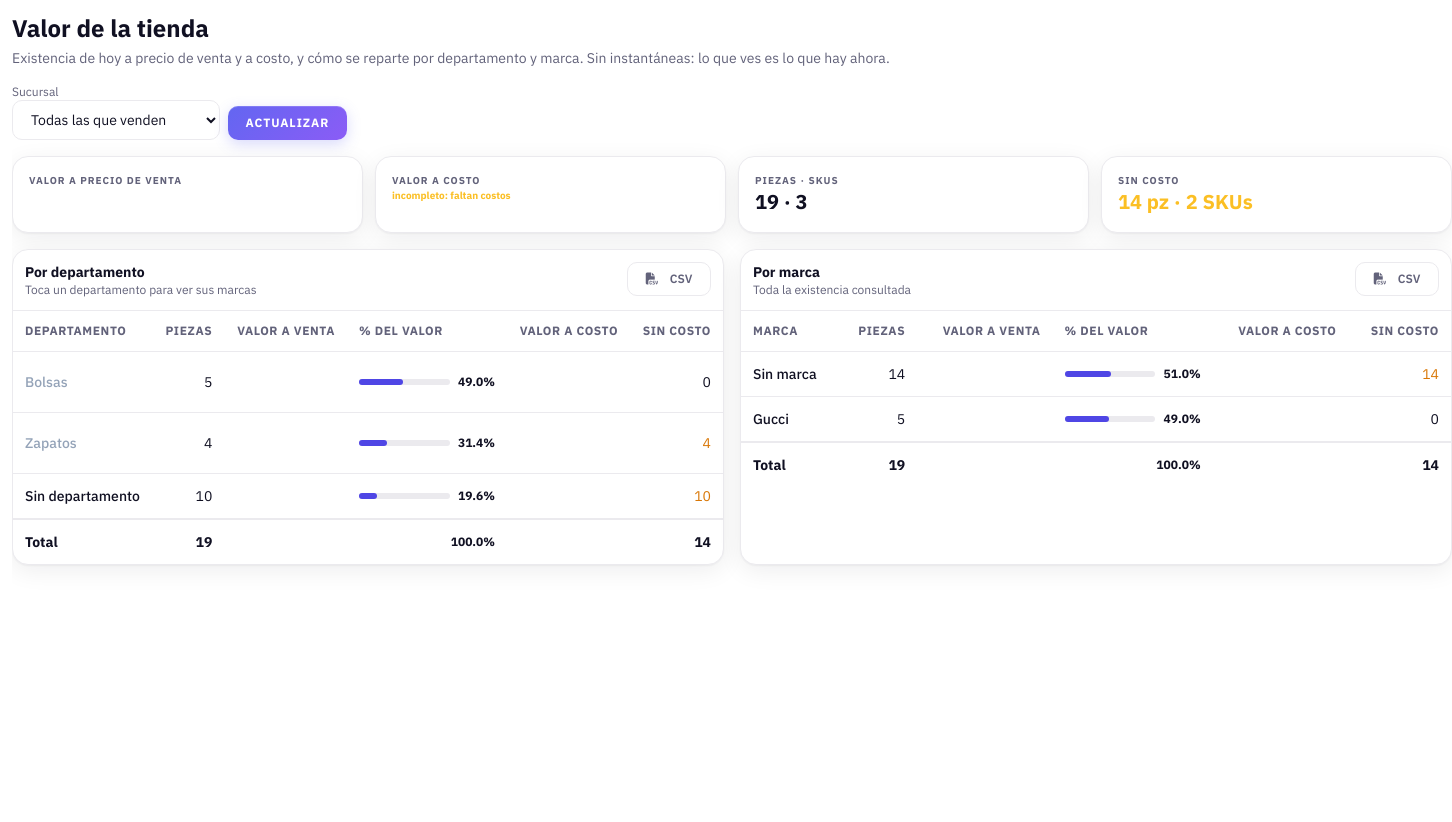
Test: HQValorInventario — distribución del valor › elegir un departamento acota las marcas a ese departamento y se puede quitar
Step 1. Click the button "Bolsas" → {"x": 46, "y": 382}, box [25, 364, 68, 400]
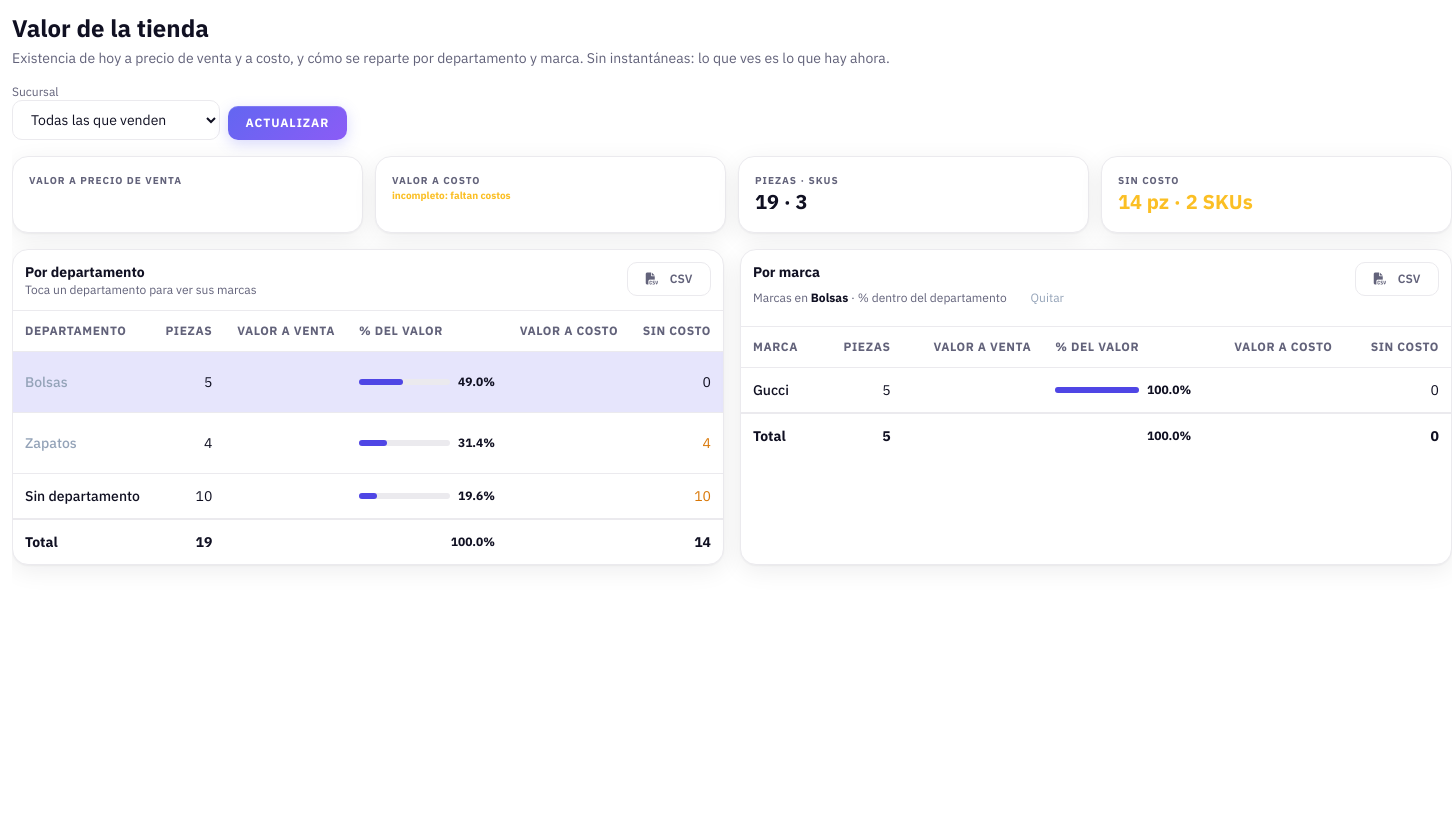
Expected: the text "Marcas en Bolsas · % dentro del departamento Quitar" is shown, [753, 282, 1080, 314]
Expected: the text "Bolsas" is shown, [811, 290, 848, 305]
Expected: the text "Sin marca" is gone
Step 2. Click the button "Quitar" → {"x": 1047, "y": 298}, box [1015, 282, 1080, 314]
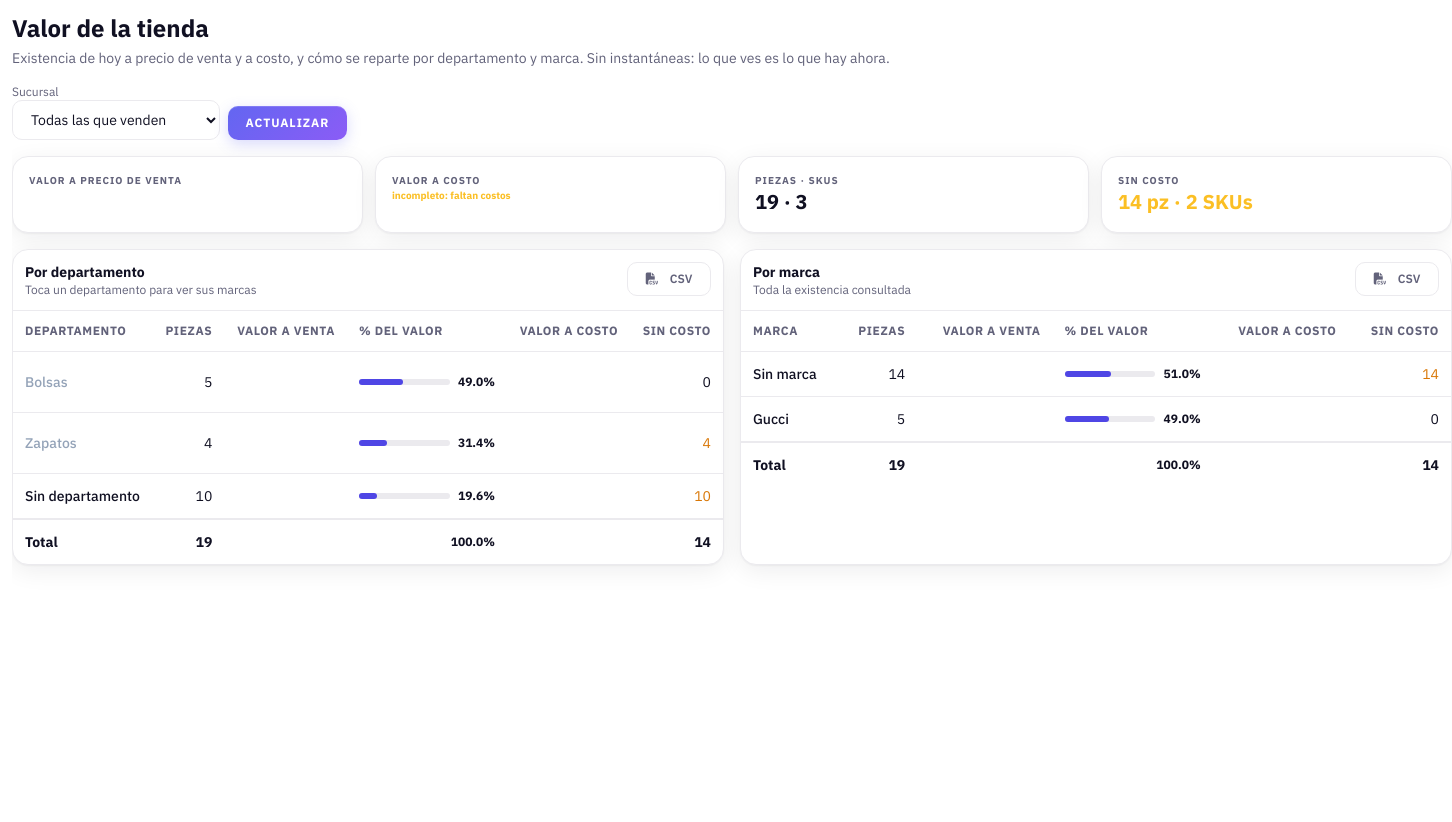
Expected: the text "Sin marca" is shown, [753, 365, 817, 383]
